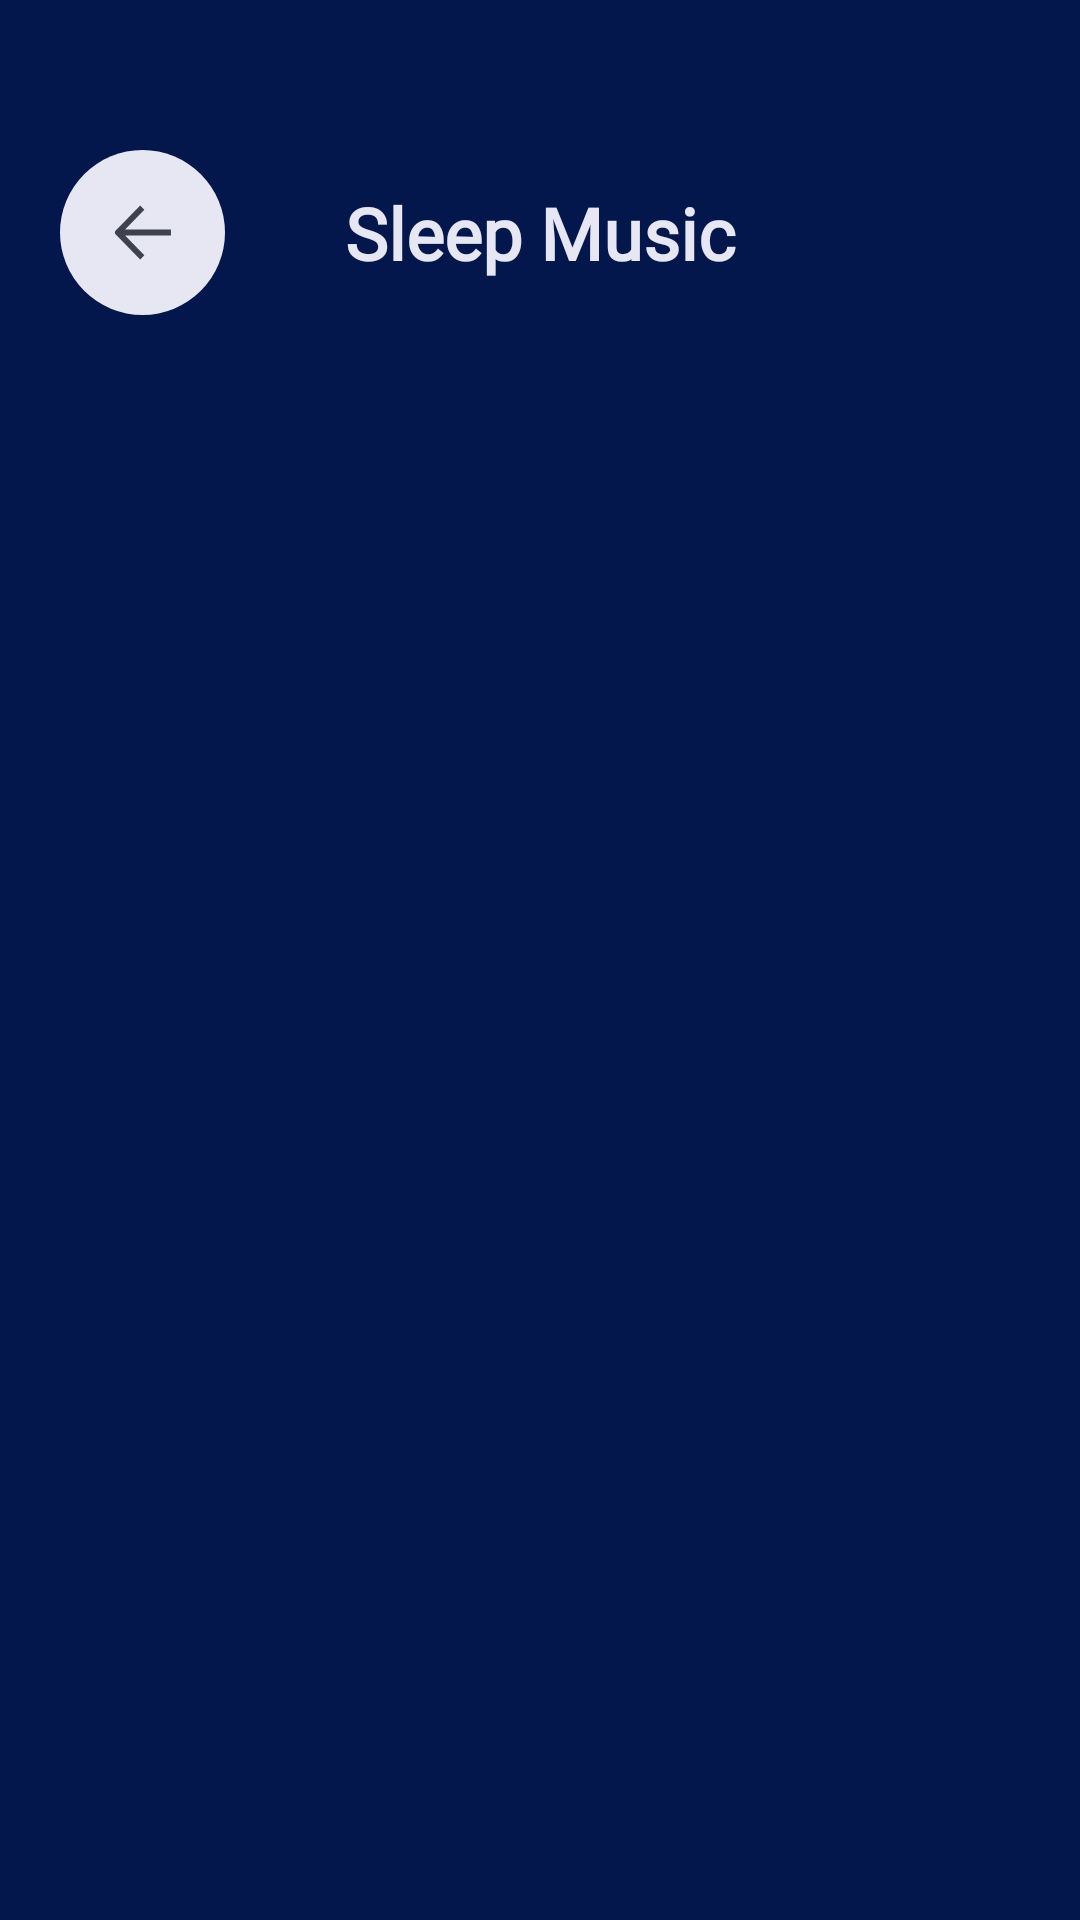

Locate icon controls on the screen. Image size 1080×1920, boxes as (x1, y1, x2, y2).
back arrow: (60, 150, 225, 315)
